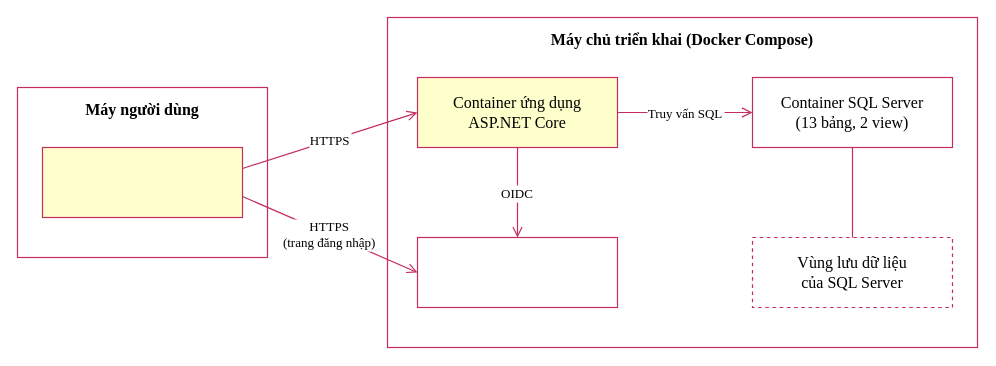
Image size: 996x366. Some labels were removed from this diagram. Each missing label, with the centre of its shape:
"Container Keycloak (đăng nhập OIDC)" goes at [517,272].
"Trình duyệt web (giao diện React)" goes at [142,182].
